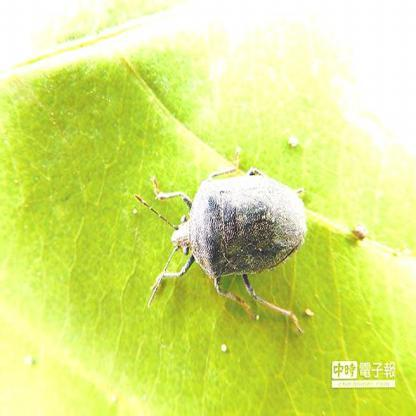rice-bug: (142, 158, 312, 327)
